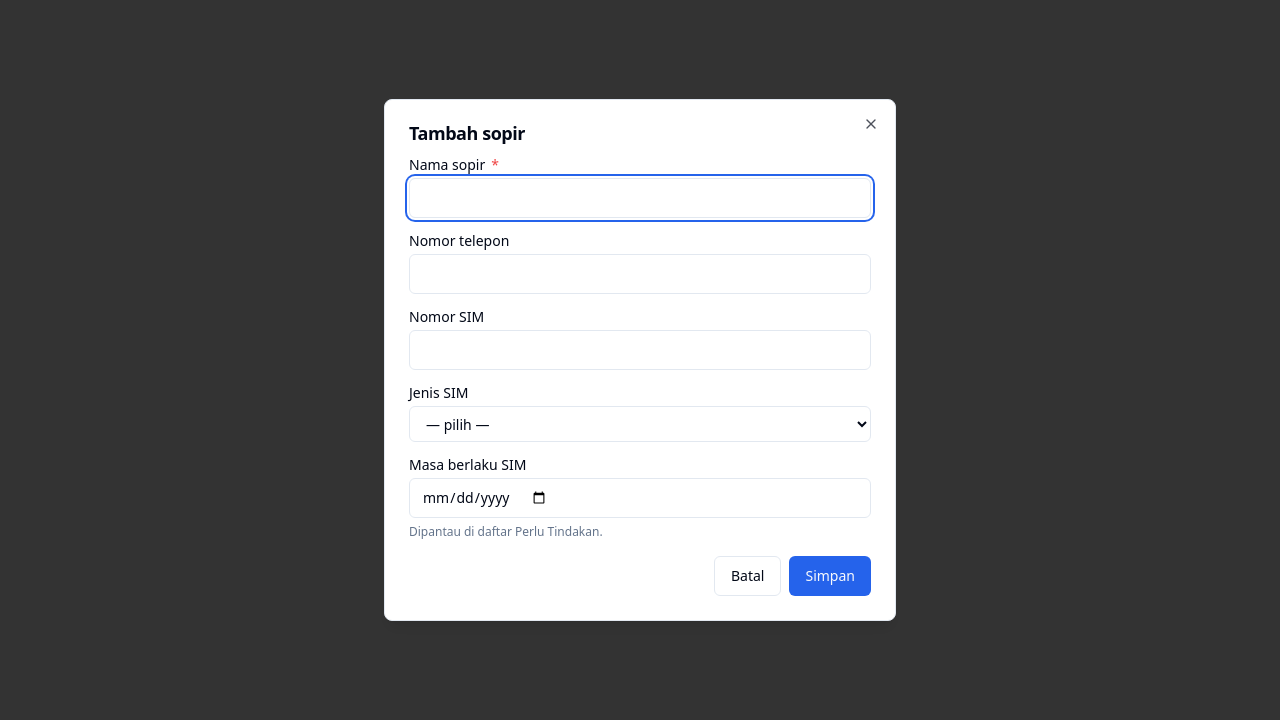
Test: DriverFormDialog › refuses to submit without a name
What coordinates should you click on to do the following:
click the button "Simpan"
I would click on:
 (830, 576)
Its box is [790,556,871,596].
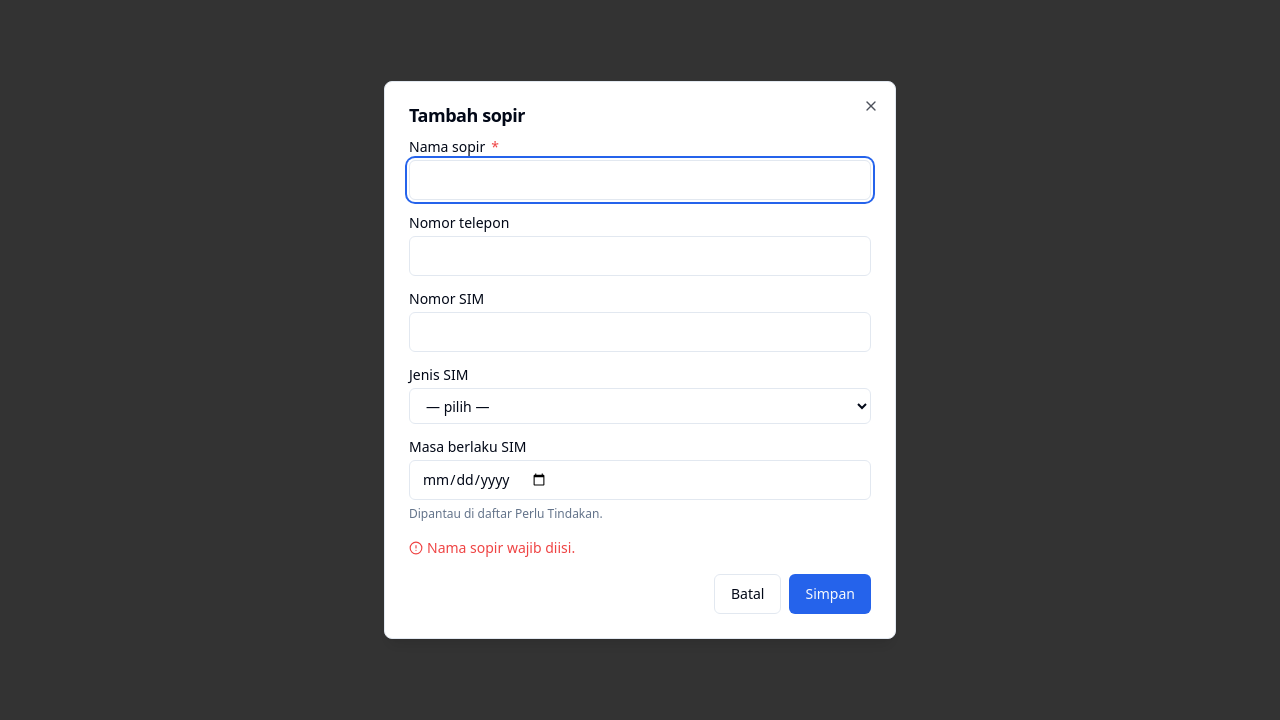
Result: the text "Nama sopir wajib diisi." is shown at [409,538,575,557]
